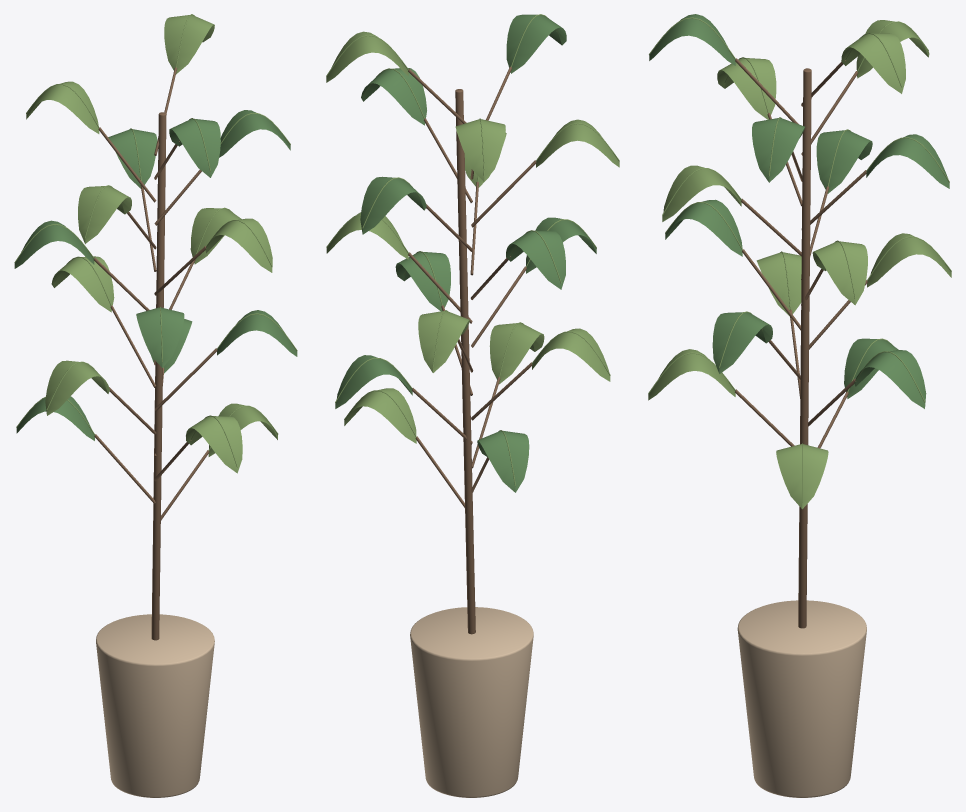
Rendered from plant-large.glb.
3 views of the same model, side by side, from view 1: azimuth 30°, elevation 25°; view 2: azimuth 150°, elevation 25°; view 3: azimuth 270°, elevation 25° (orthographic). The views are drawn at different scales.
Visible parts, largest first — view 1: plant-large-mesh; view 2: plant-large-mesh; view 3: plant-large-mesh.
Part boxes in pixels (bbox=[...]): plant-large-mesh: bbox=[14, 14, 297, 797]; plant-large-mesh: bbox=[326, 14, 619, 797]; plant-large-mesh: bbox=[648, 14, 951, 797].
Bounding box in the file's own units: 0.6 × 1.7 × 0.6.
